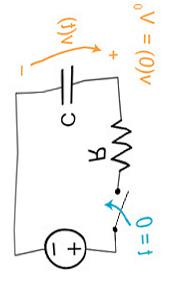Battery: (28, 219, 97, 281)
